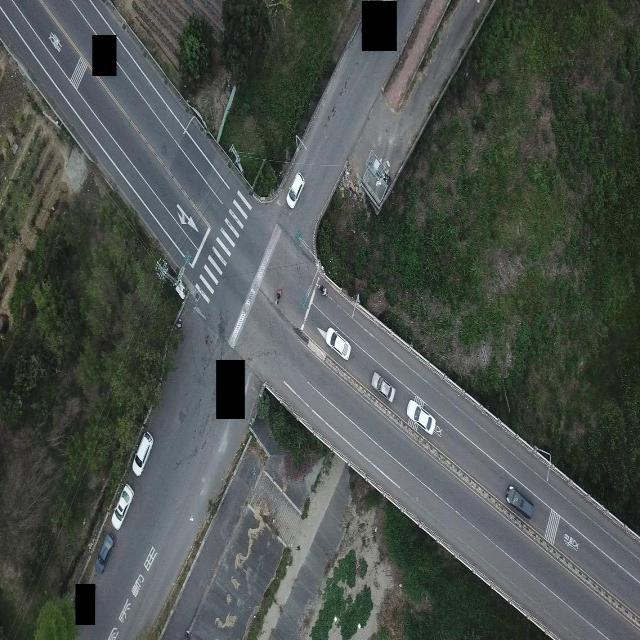car: (406, 397, 436, 434), (110, 484, 134, 529), (505, 483, 534, 518), (132, 429, 153, 475), (324, 325, 350, 361), (370, 370, 396, 403), (95, 530, 114, 574), (286, 172, 303, 208)
